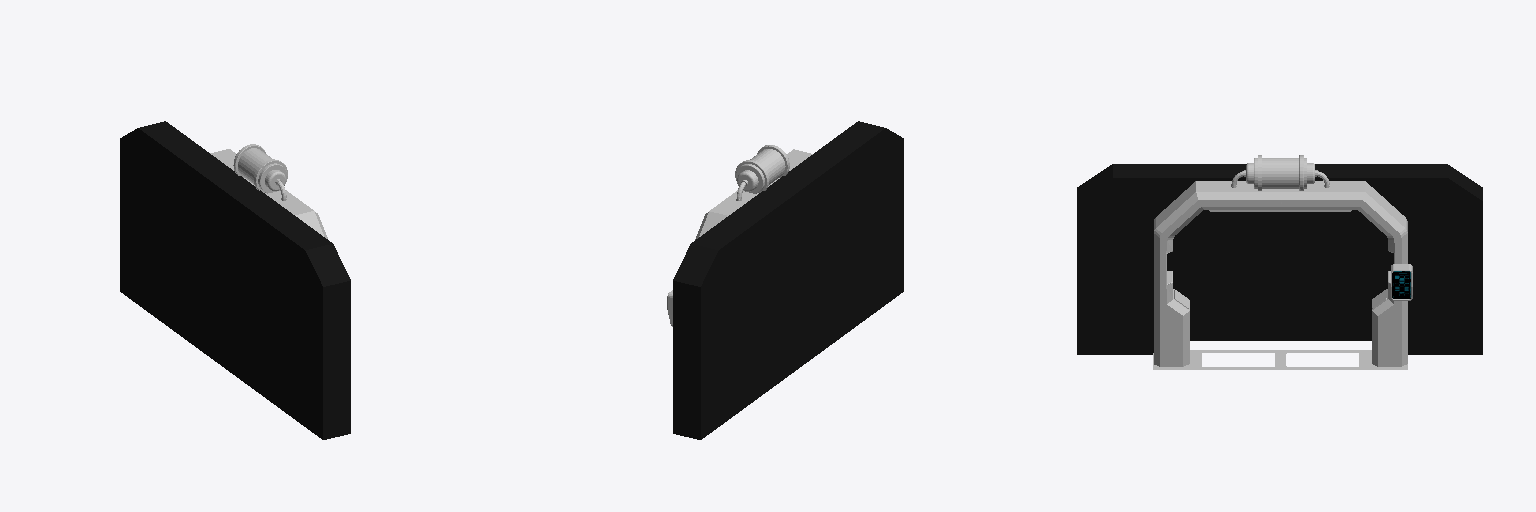
The picture shows the model from 3 angles: view 1: azimuth 30°, elevation 25°; view 2: azimuth 150°, elevation 25°; view 3: azimuth 270°, elevation 25°; orthographic projection.
Parts seen in each view (by area): view 1: Cube.002; view 2: Cube.002; view 3: Cube.002.
Boxes of the visible parts, box(x1,y1,x2,y2) form: Cube.002: box(120, 121, 350, 439); Cube.002: box(667, 121, 903, 439); Cube.002: box(1077, 155, 1482, 369).
Bounding box in the file's own units: 1.25 × 3.53 × 6.4.
4 materials, 2 textured.